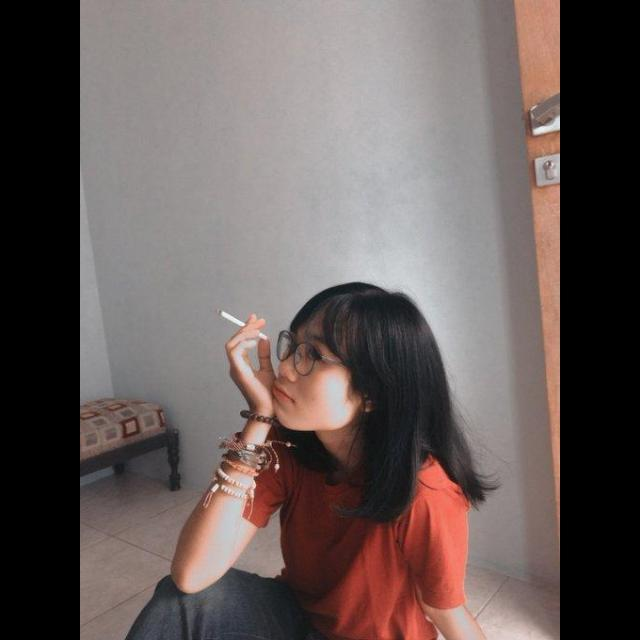rokok: (216, 301, 272, 343)
